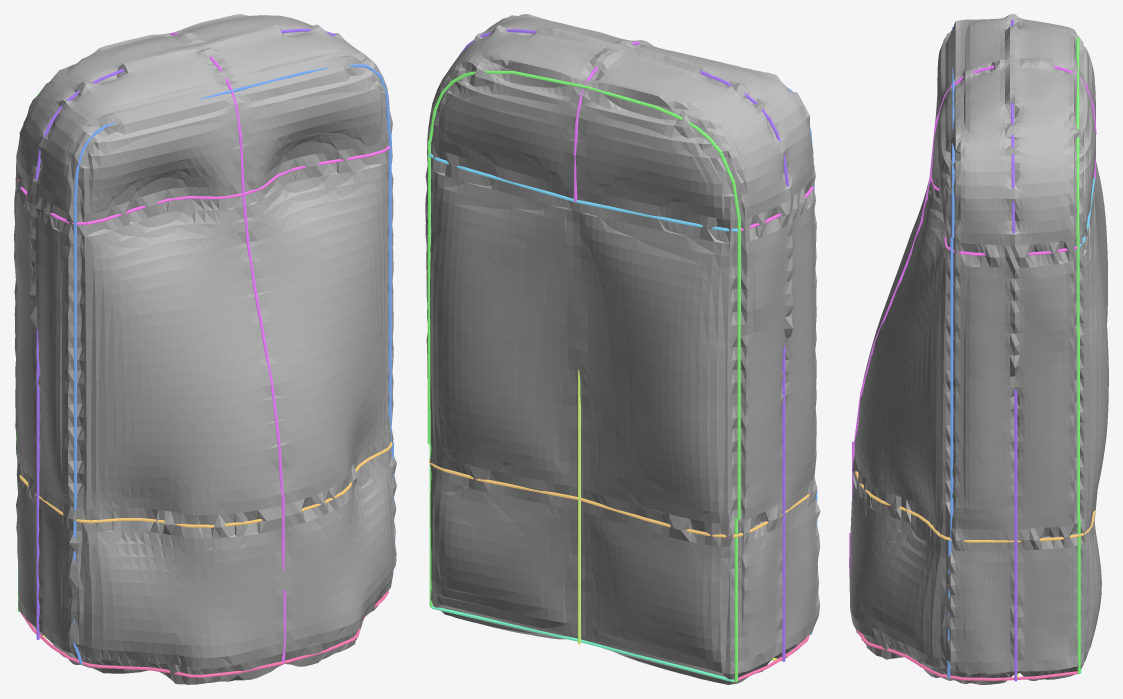
3 views of the same model, side by side, from view 1: azimuth 30°, elevation 25°; view 2: azimuth 150°, elevation 25°; view 3: azimuth 270°, elevation 25° (orthographic). The views are drawn at different scales.
Bounding box in the file's own units: 0.5135 × 0.8279 × 0.3469.
